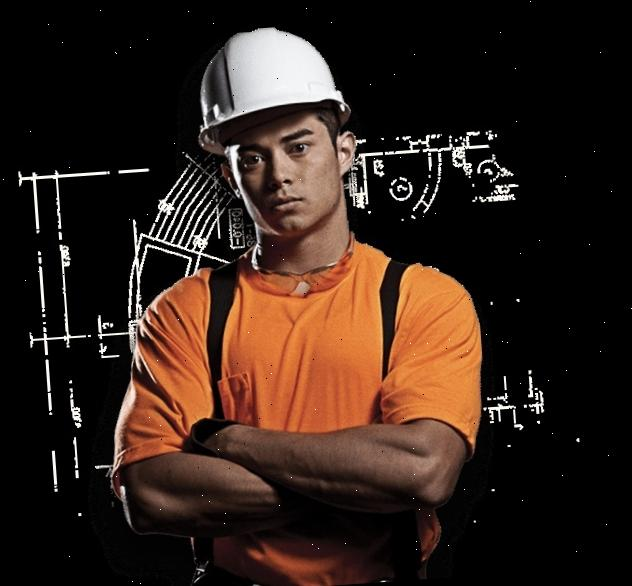helmet: (190, 23, 353, 147)
no_wear: (106, 250, 481, 586)
